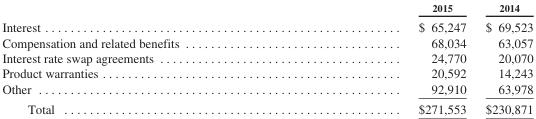table: (1, 1, 532, 115)
table column: (1, 1, 298, 115), (298, 1, 475, 115), (475, 1, 532, 115)
table column header: (1, 1, 532, 16)
table row: (1, 16, 532, 34), (1, 80, 532, 98), (1, 98, 532, 115), (1, 49, 532, 65), (1, 1, 532, 16), (1, 34, 532, 49), (1, 65, 532, 80)
